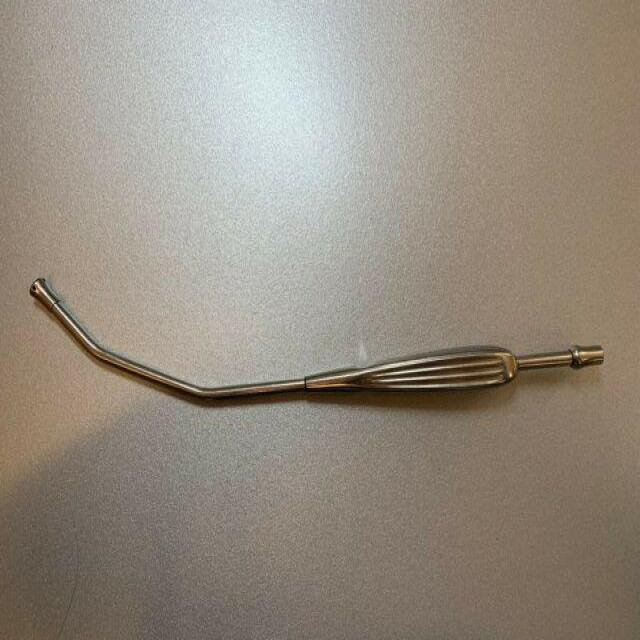Yankauer: (25, 264, 612, 416)
